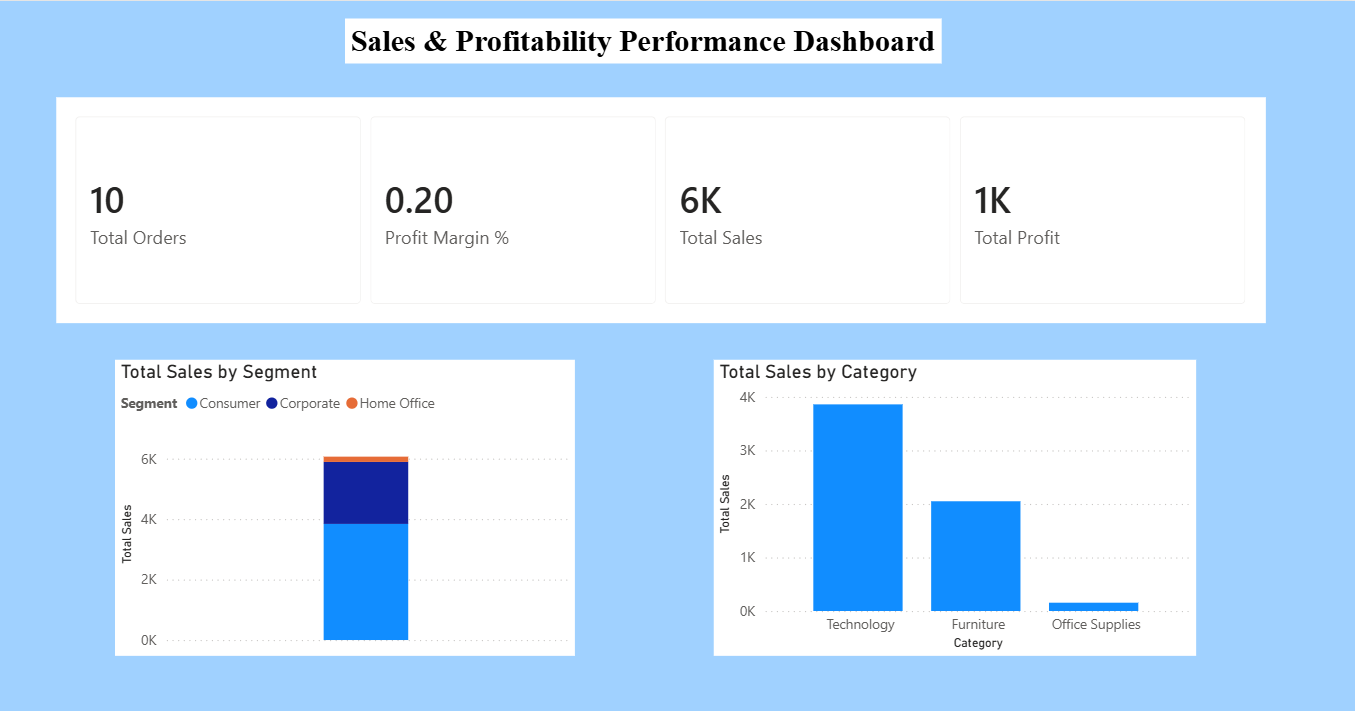

The page's visual inventory and layout, read from the dashboard file:
{"tool":"powerbi","page":{"name":"Page 1","canvas":[1280,720],"ordinal":0},"visuals":[{"type":"cardVisual","fields":{"Data":["FactSales.Total Orders","FactSales.Profit Margin %","FactSales.Total Sales","FactSales.Total Profit"]},"box":[121.1,85.6,1075.6,201.1],"z":0},{"type":"clusteredColumnChart","fields":{"Category":["DimProduct.Category"],"Y":["FactSales.Total Sales"]},"box":[705.6,318.9,428.9,263.3],"z":1},{"type":"columnChart","fields":{"Series":["DimCustomer.Segment"],"Y":["FactSales.Total Sales"]},"box":[173.3,318.9,408.9,263.3],"z":2},{"type":"textbox","box":[377.8,15.6,530,40],"z":3}]}

Visuals, with their boxes on the page's 1280x720 design canvas (x1, y1, x2, y2). These are canvas units, not pixel positions in the 1355x711 screenshot, which may show the page scaled, cropped or inside an application window:
cardVisual - FactSales.Total Orders x FactSales.Profit Margin %: (left=121, top=86, right=1197, bottom=287)
clusteredColumnChart - DimProduct.Category x FactSales.Total Sales: (left=706, top=319, right=1134, bottom=582)
columnChart - DimCustomer.Segment x FactSales.Total Sales: (left=173, top=319, right=582, bottom=582)
textbox: (left=378, top=16, right=908, bottom=56)
